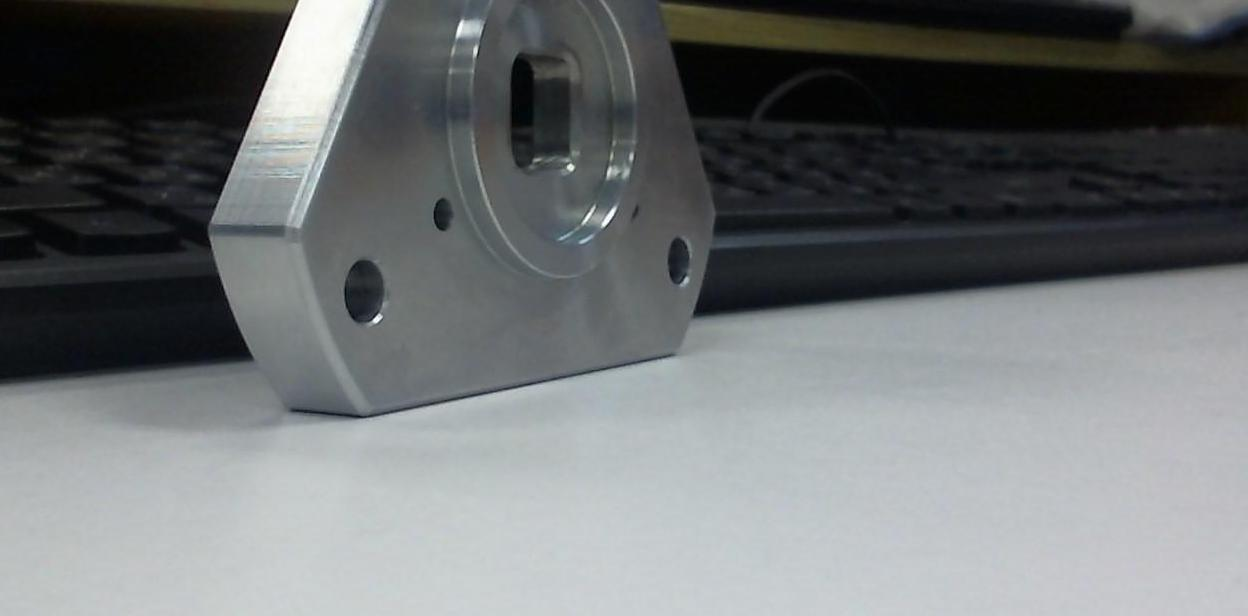hole: (337, 252, 395, 330), (666, 228, 696, 291)
